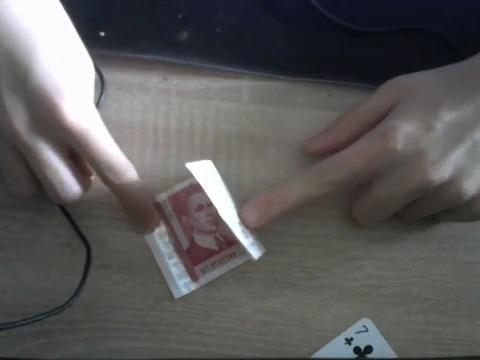5leva: (154, 160, 265, 296)
